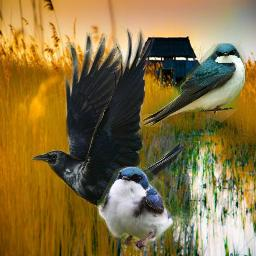Crow: (31, 26, 185, 247)
Swallow: (140, 43, 246, 127), (97, 166, 194, 251)
